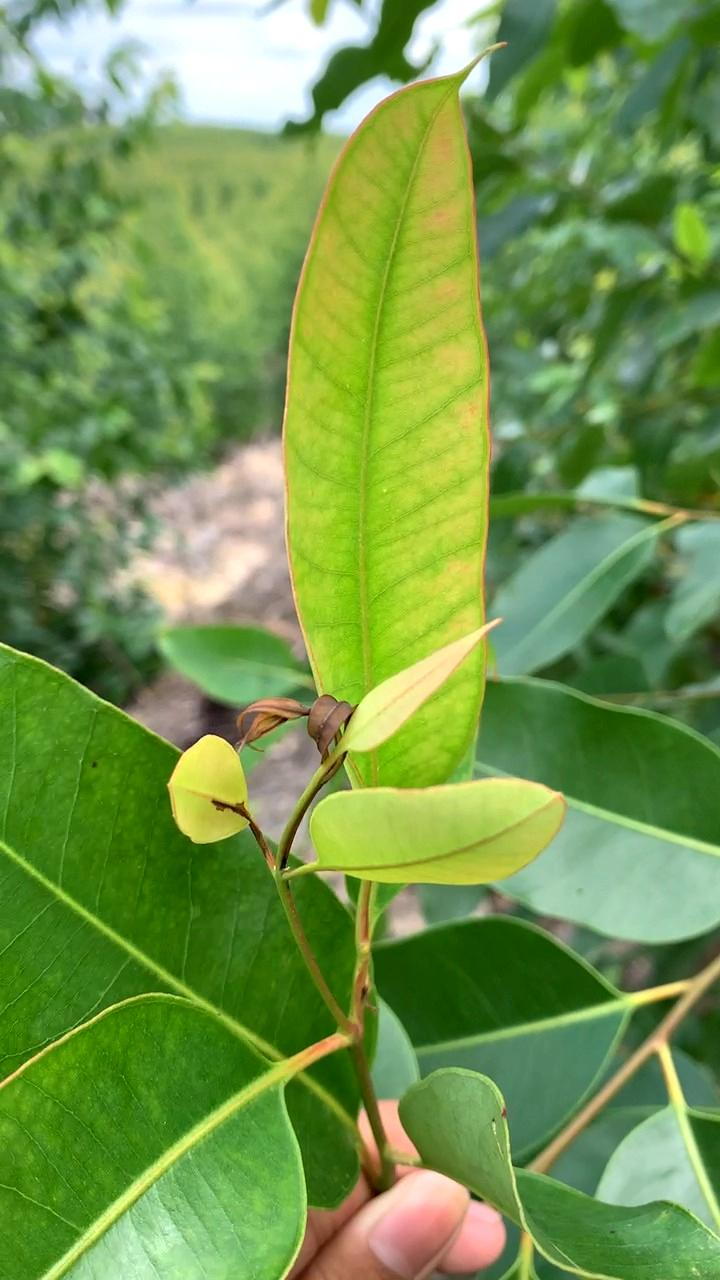Helopeltis-Withered Sprout: (228, 678, 359, 763)
